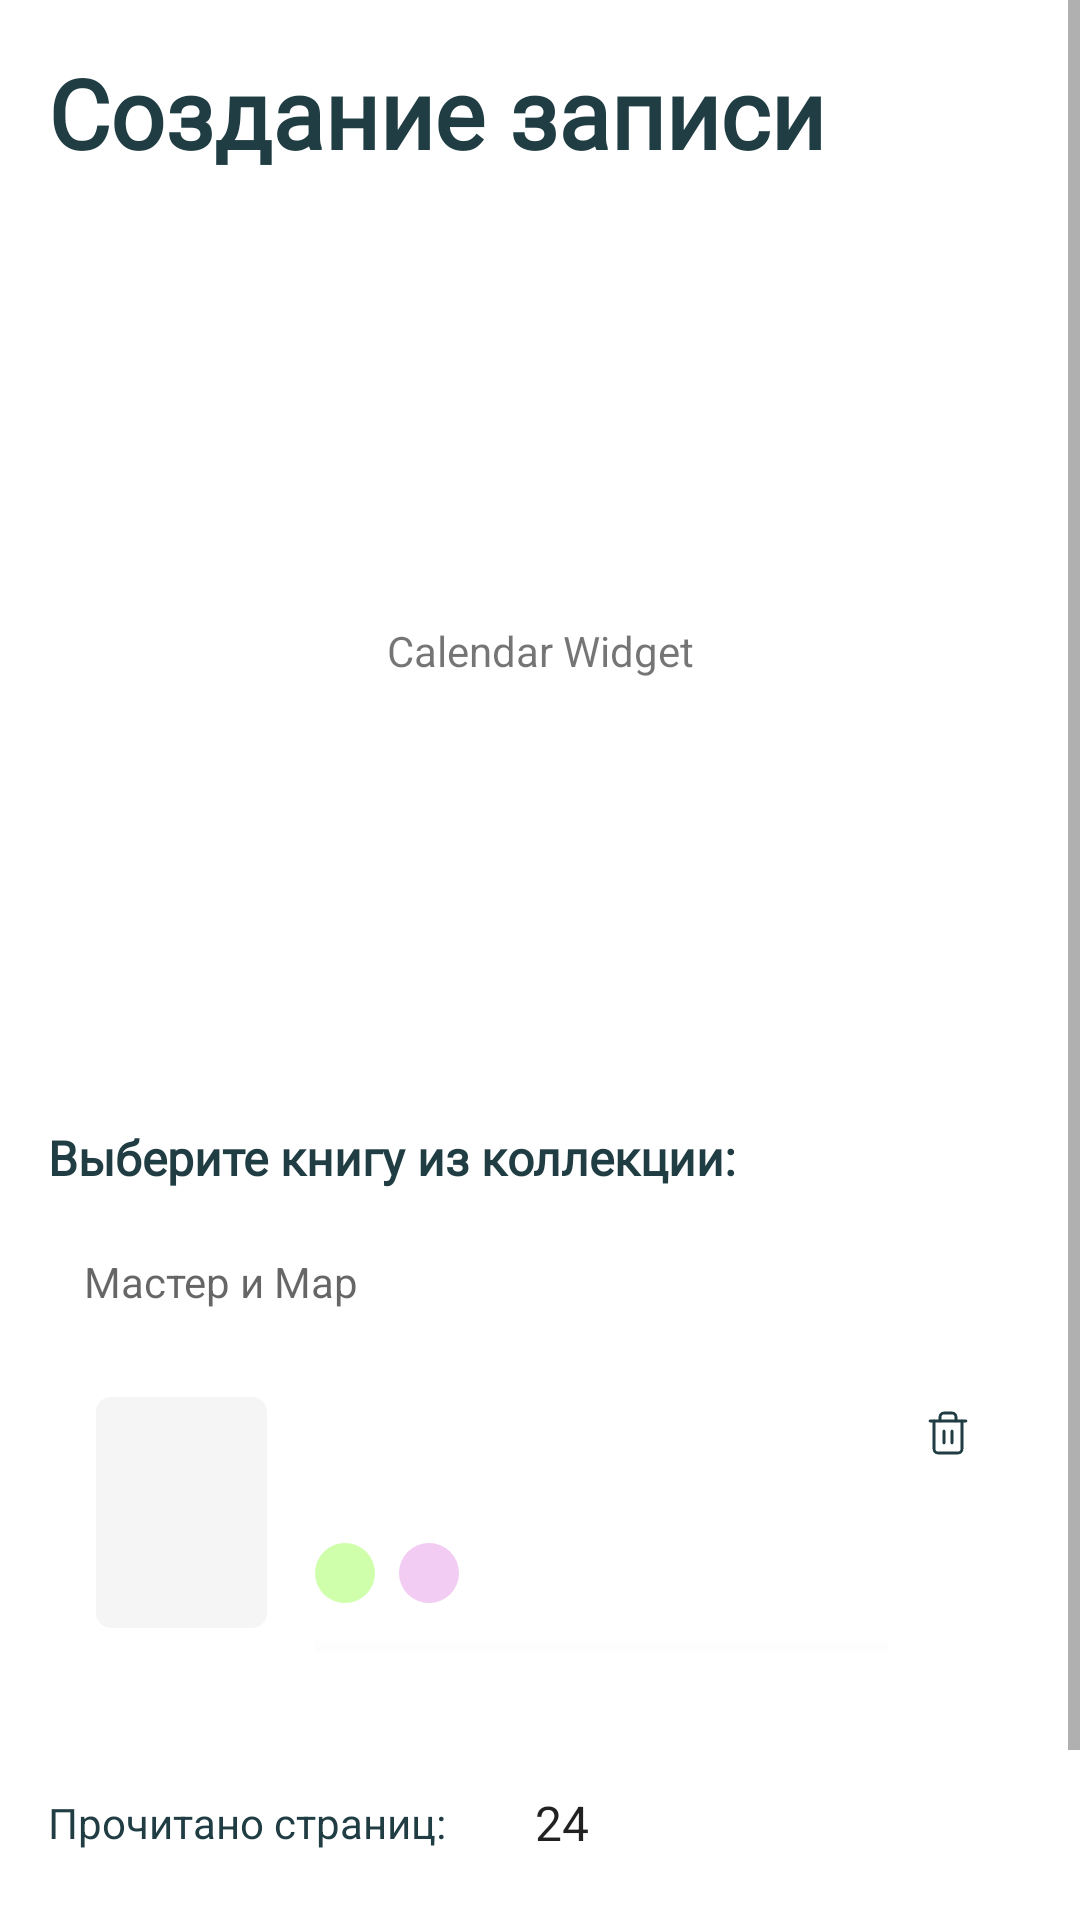

Where icons sit on this 1080×1920 app screen, as (x1, y1, x2, y2):
Удалить книгу: (928, 1411, 968, 1455)
